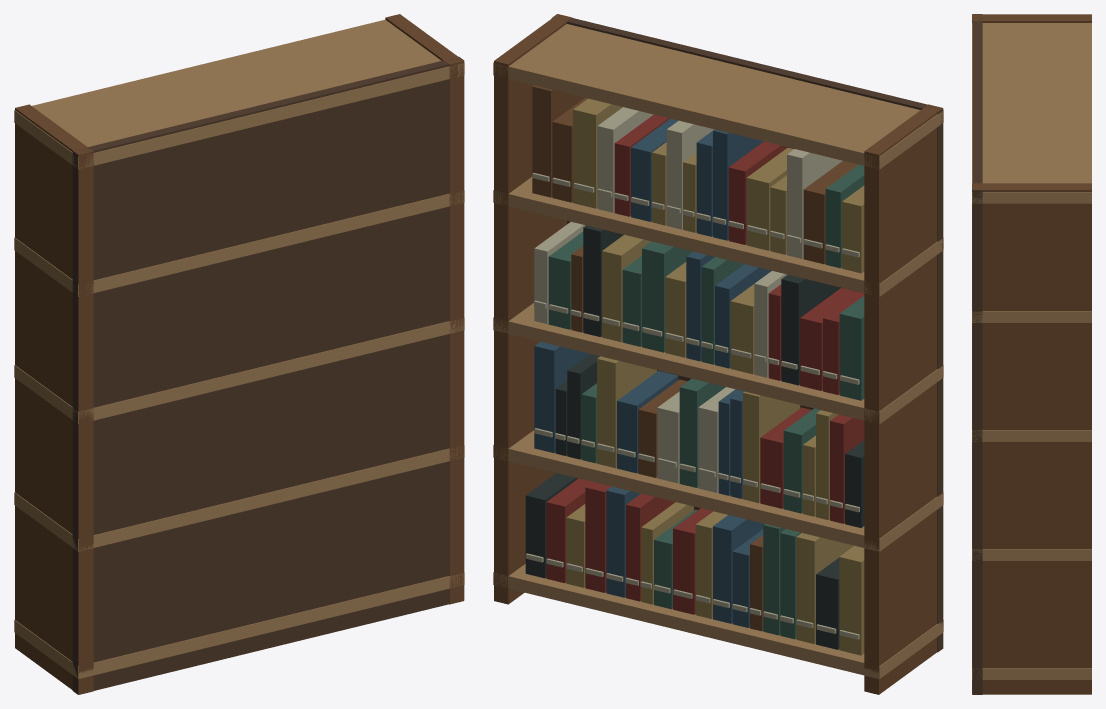
The model's file is bookshelf.glb.
3 renders of one model, left to right at view 1: azimuth 30°, elevation 25°; view 2: azimuth 150°, elevation 25°; view 3: azimuth 270°, elevation 25°, orthographic. The views are drawn at different scales.
Parts seen in each view (by area): view 1: bookshelf; view 2: bookshelf; view 3: bookshelf.
Boxes of the visible parts, x1,y1,x2,y2 form: bookshelf: [14, 14, 464, 694]; bookshelf: [493, 14, 943, 694]; bookshelf: [972, 14, 1091, 694].
Bounding box in the file's own units: 1.46 × 1.95 × 0.42.
